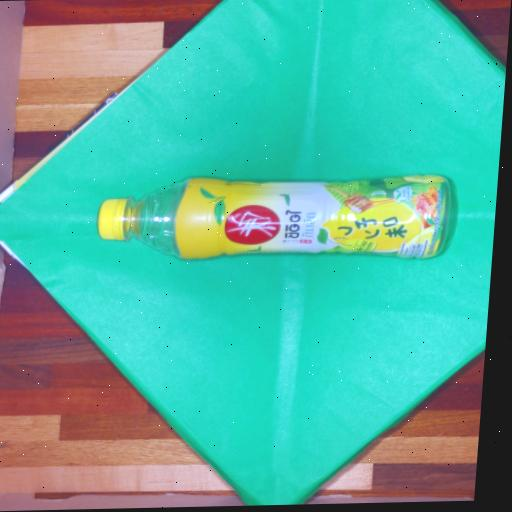bottle: (98, 176, 451, 258)
